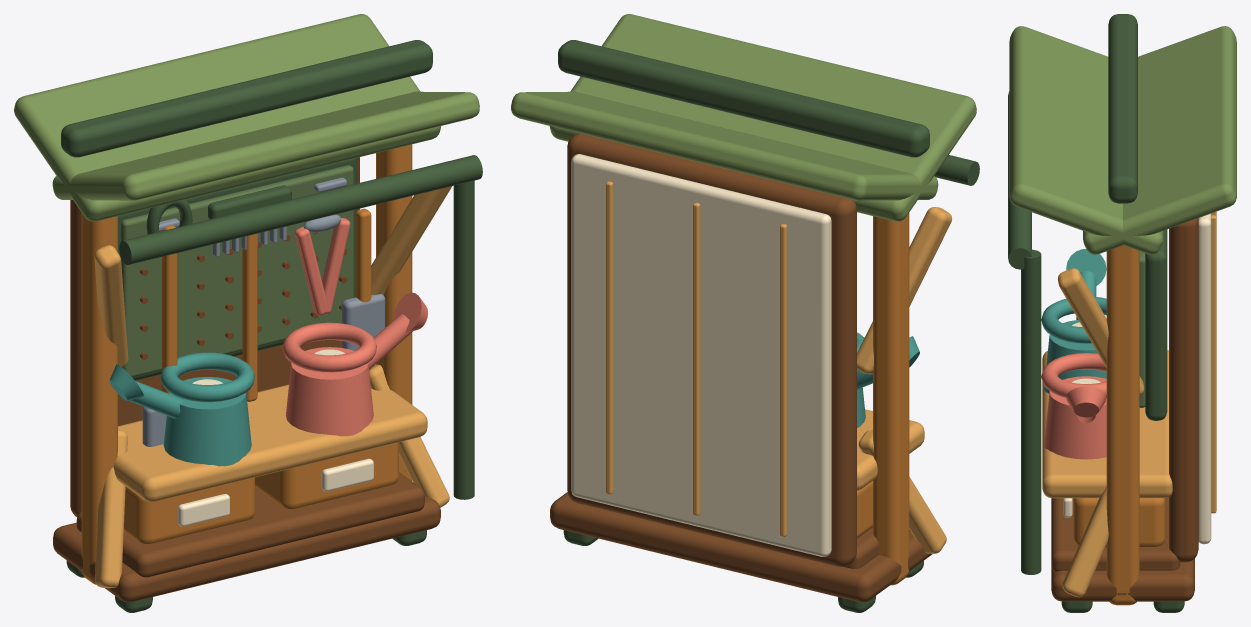
File: garden-tool-shed.glb
3 renders of one model, left to right at view 1: azimuth 30°, elevation 25°; view 2: azimuth 150°, elevation 25°; view 3: azimuth 270°, elevation 25°, orthographic. The views are drawn at different scales.
Visible parts, largest first — view 1: broad-lower-storage-shelf-two-blank-label-bins-and-watering- (×6), pitched-sage-green-roof-ridge-and-rain-gutter-surface-0, large-green-pegboard-with-dedicated-tool-hooks-surface-2, pitched-sage-green-roof-ridge-and-rain-gutter-surface-2, pitched-sage-green-roof-ridge-and-rain-gutter-surface-4, pitched-sage-green-roof-ridge-and-rain-gutter-surface-6, open-shed-frame-side-braces-and-four-feet-surface-0, open-shed-frame-side-braces-and-four-feet-surface-12, pitched-sage-green-roof-ridge-and-rain-gutter-surface-8, finished-cream-rear-wall-with-rear-trim-surface-0, right-watering-can-surface-0, left-watering-can-surface-0 (+20 smaller); view 2: finished-cream-rear-wall-with-rear-trim-surface-2, pitched-sage-green-roof-ridge-and-rain-gutter-surface-2, finished-cream-rear-wall-with-rear-trim-surface-0, pitched-sage-green-roof-ridge-and-rain-gutter-surface-0, pitched-sage-green-roof-ridge-and-rain-gutter-surface-4, open-shed-frame-side-braces-and-four-feet-surface-0, open-shed-frame-side-braces-and-four-feet-surface-12, broad-lower-storage-shelf-two-blank-label-bins-and-watering- (×3), open-shed-frame-side-braces-and-four-feet-surface-2, finished-cream-rear-wall-with-rear-trim-surface-5, finished-cream-rear-wall-with-rear-trim-surface-6, finished-cream-rear-wall-with-rear-trim-surface-4 (+2 smaller); view 3: pitched-sage-green-roof-ridge-and-rain-gutter-surface-2, pitched-sage-green-roof-ridge-and-rain-gutter-surface-0, open-shed-frame-side-braces-and-four-feet-surface-6, broad-lower-storage-shelf-two-blank-label-bins-and-watering- (×3), finished-cream-rear-wall-with-rear-trim-surface-0, pitched-sage-green-roof-ridge-and-rain-gutter-surface-8, pitched-sage-green-roof-ridge-and-rain-gutter-surface-4, finished-cream-rear-wall-with-rear-trim-surface-2, large-green-pegboard-with-dedicated-tool-hooks-surface-0, open-shed-frame-side-braces-and-four-feet-surface-12, right-watering-can-surface-0, open-shed-frame-side-braces-and-four-feet-surface-10 (+11 smaller).
Boxes of the visible parts, <box> form: broad-lower-storage-shelf-two-blank-label-bins-and-watering- (×6): <box>76,384,427,577</box>; pitched-sage-green-roof-ridge-and-rain-gutter-surface-0: <box>14,14,441,221</box>; large-green-pegboard-with-dedicated-tool-hooks-surface-2: <box>120,165,353,377</box>; pitched-sage-green-roof-ridge-and-rain-gutter-surface-2: <box>52,91,479,200</box>; pitched-sage-green-roof-ridge-and-rain-gutter-surface-4: <box>61,40,432,157</box>; pitched-sage-green-roof-ridge-and-rain-gutter-surface-6: <box>119,155,482,264</box>; open-shed-frame-side-braces-and-four-feet-surface-0: <box>81,213,117,584</box>; open-shed-frame-side-braces-and-four-feet-surface-12: <box>53,496,440,602</box>; pitched-sage-green-roof-ridge-and-rain-gutter-surface-8: <box>453,180,474,499</box>; finished-cream-rear-wall-with-rear-trim-surface-0: <box>70,157,359,517</box>; right-watering-can-surface-0: <box>285,347,373,436</box>; left-watering-can-surface-0: <box>163,377,251,466</box>; finished-cream-rear-wall-with-rear-trim-surface-2: <box>571,154,831,556</box>; pitched-sage-green-roof-ridge-and-rain-gutter-surface-2: <box>549,14,976,221</box>; finished-cream-rear-wall-with-rear-trim-surface-0: <box>567,133,856,566</box>; pitched-sage-green-roof-ridge-and-rain-gutter-surface-0: <box>511,91,938,200</box>; pitched-sage-green-roof-ridge-and-rain-gutter-surface-4: <box>558,40,929,157</box>; open-shed-frame-side-braces-and-four-feet-surface-0: <box>873,213,909,585</box>; open-shed-frame-side-braces-and-four-feet-surface-12: <box>550,492,932,602</box>; broad-lower-storage-shelf-two-blank-label-bins-and-watering- (×3): <box>844,409,924,568</box>; open-shed-frame-side-braces-and-four-feet-surface-2: <box>857,207,951,374</box>; finished-cream-rear-wall-with-rear-trim-surface-5: <box>693,202,700,515</box>; finished-cream-rear-wall-with-rear-trim-surface-6: <box>606,181,613,494</box>; finished-cream-rear-wall-with-rear-trim-surface-4: <box>780,224,787,536</box>; pitched-sage-green-roof-ridge-and-rain-gutter-surface-2: <box>1009,26,1163,254</box>; pitched-sage-green-roof-ridge-and-rain-gutter-surface-0: <box>1083,26,1236,254</box>; open-shed-frame-side-braces-and-four-feet-surface-6: <box>1106,245,1139,605</box>; broad-lower-storage-shelf-two-blank-label-bins-and-watering- (×3): <box>1042,350,1180,571</box>; finished-cream-rear-wall-with-rear-trim-surface-0: <box>1169,218,1198,562</box>; pitched-sage-green-roof-ridge-and-rain-gutter-surface-8: <box>1021,249,1041,574</box>; pitched-sage-green-roof-ridge-and-rain-gutter-surface-4: <box>1108,14,1137,203</box>; finished-cream-rear-wall-with-rear-trim-surface-2: <box>1198,213,1211,544</box>; large-green-pegboard-with-dedicated-tool-hooks-surface-0: <box>1145,229,1167,420</box>; open-shed-frame-side-braces-and-four-feet-surface-12: <box>1051,558,1194,601</box>; right-watering-can-surface-0: <box>1044,376,1106,459</box>; open-shed-frame-side-braces-and-four-feet-surface-10: <box>1062,487,1108,597</box>.
Bounding box in the file's own units: 1.41 × 1.75 × 0.8056.
